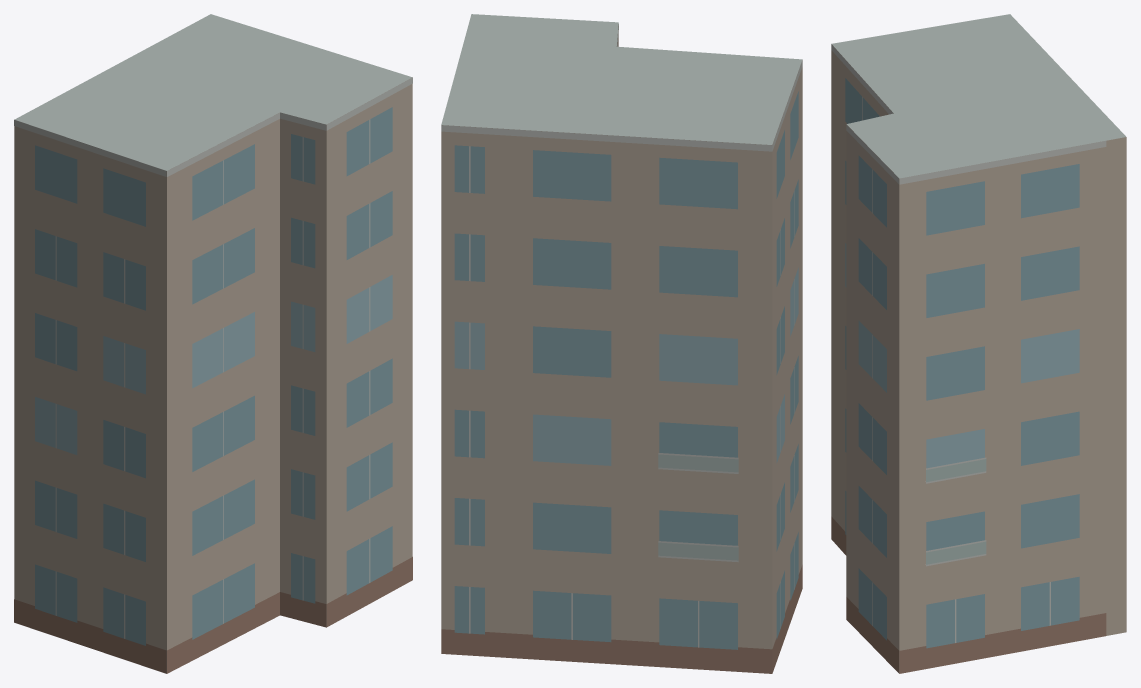
Rendered from survey-upis-32951658.glb.
The picture shows the model from 3 angles, left to right: view 1: azimuth 30°, elevation 25°; view 2: azimuth 150°, elevation 25°; view 3: azimuth 270°, elevation 25°; orthographic projection. The views are drawn at different scales.
Visible parts, largest first — view 1: survey-upis-32951658.tmp; view 2: survey-upis-32951658.tmp; view 3: survey-upis-32951658.tmp.
Part boxes in pixels (x1,y1,x2,y2): survey-upis-32951658.tmp: (14,14,412,673); survey-upis-32951658.tmp: (441,14,802,673); survey-upis-32951658.tmp: (831,14,1126,673).
Bounding box in the file's own units: 13.97 × 19.6 × 10.6.
